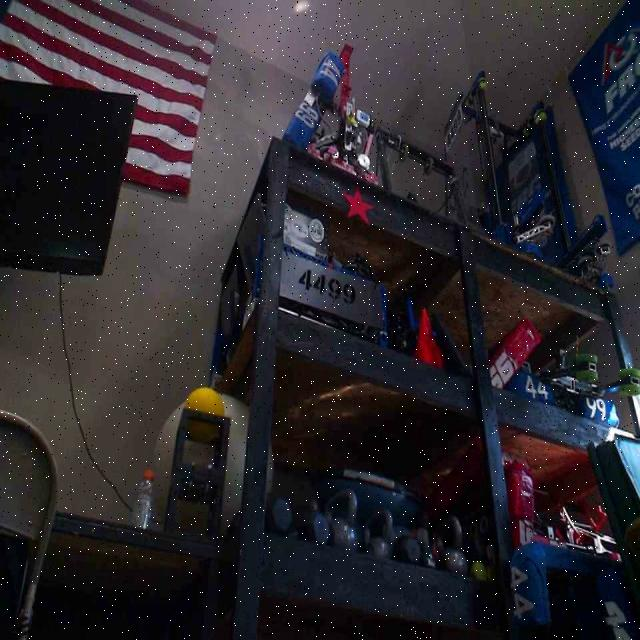star_red: (341, 184, 373, 223)
